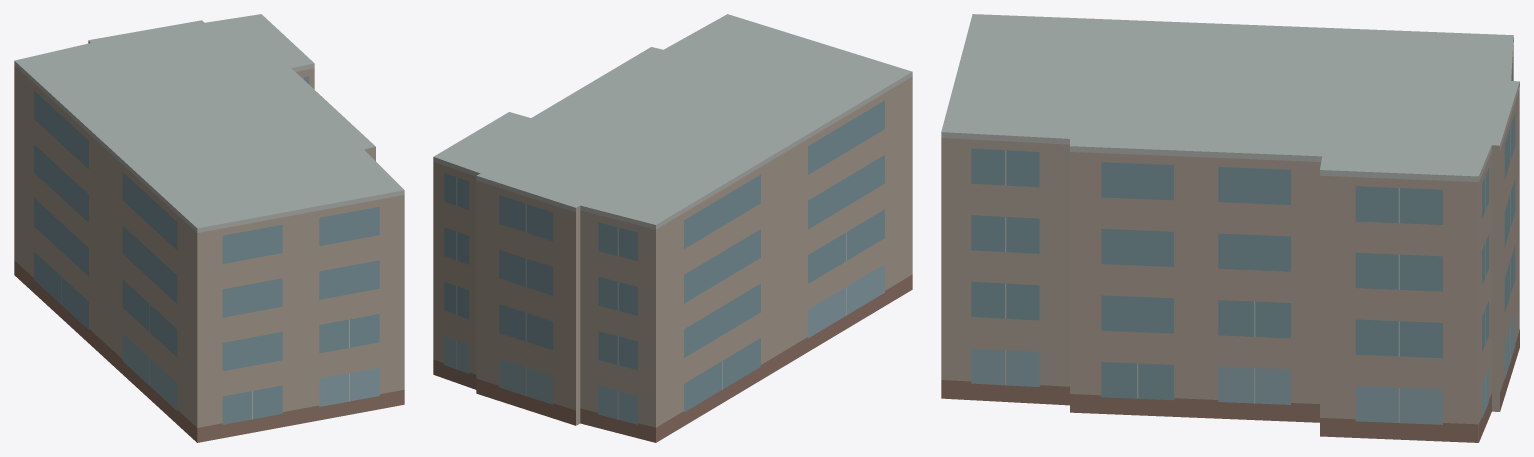
File: survey-upis-32606963.glb
3 renders of one model, left to right at view 1: azimuth 30°, elevation 25°; view 2: azimuth 150°, elevation 25°; view 3: azimuth 270°, elevation 25°, orthographic. The views are drawn at different scales.
Visible parts, largest first — view 1: survey-upis-32606963.tmp; view 2: survey-upis-32606963.tmp; view 3: survey-upis-32606963.tmp.
Part boxes in pixels (left/top/right/bottom): survey-upis-32606963.tmp: left=14, top=14, right=404, bottom=442; survey-upis-32606963.tmp: left=433, top=14, right=912, bottom=442; survey-upis-32606963.tmp: left=941, top=14, right=1519, bottom=442.
Size of the model in its own units: 14.78 by 11.3 by 22.25.
